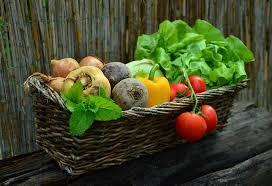Organic: (2, 1, 272, 186)
